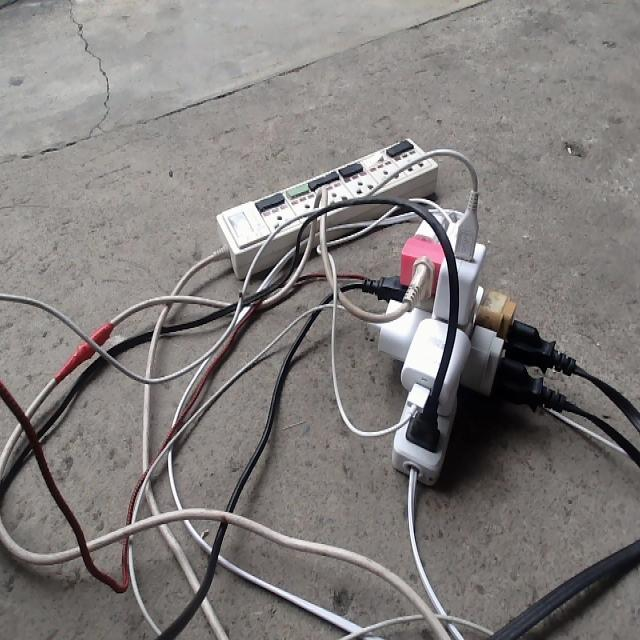-: (356, 187, 576, 485)
